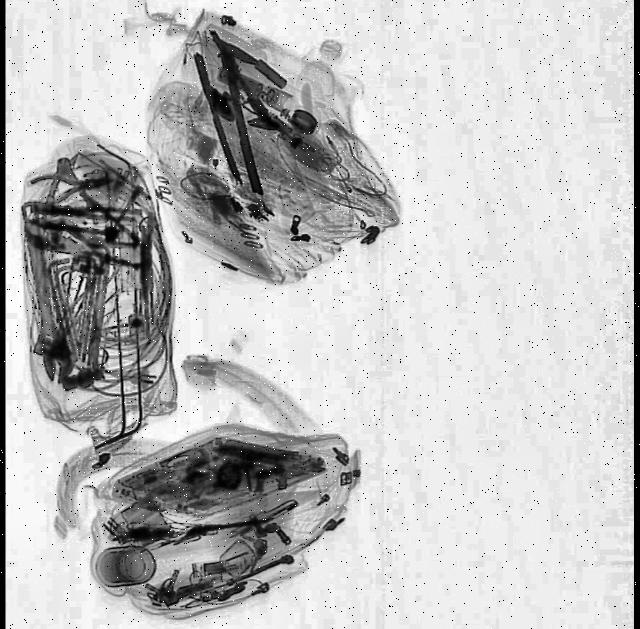Pliers: (38, 151, 100, 229)
Wrench: (7, 201, 80, 386)
